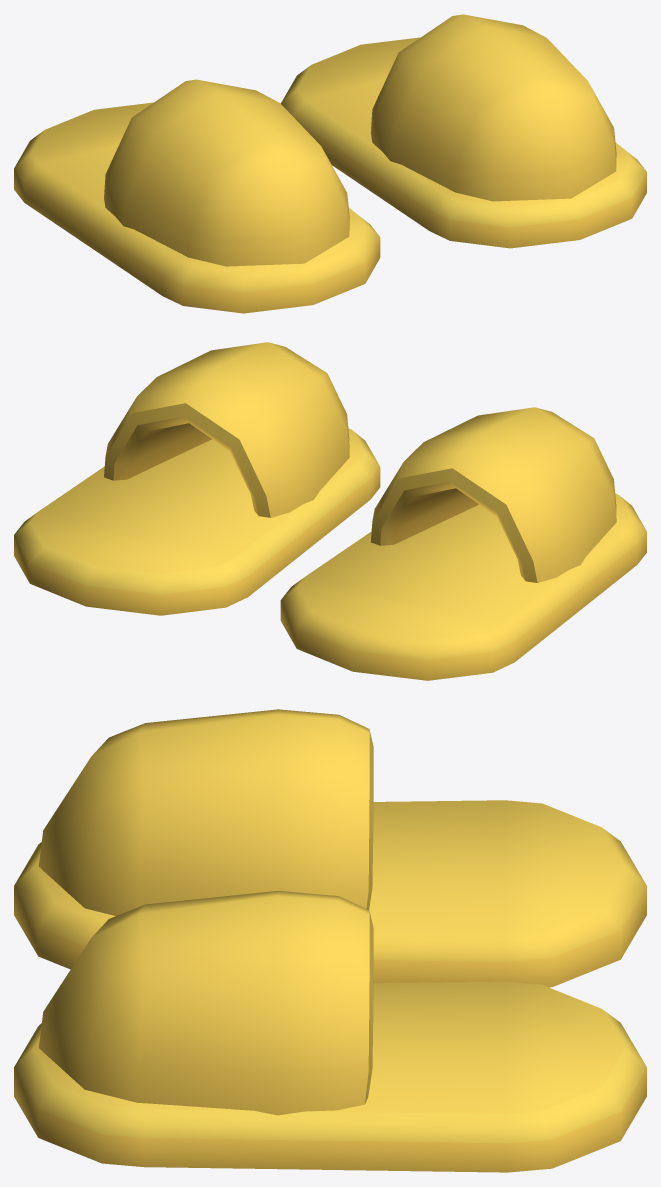
Rendered from slippers.fbx.
3 views of the same model, one above another, from view 1: azimuth 30°, elevation 25°; view 2: azimuth 150°, elevation 25°; view 3: azimuth 270°, elevation 25° (orthographic). The views are drawn at different scales.
Visible parts, largest first — view 1: slippers; view 2: slippers; view 3: slippers.
Part boxes in pixels (x1,y1,x2,y2): slippers: (14, 14, 646, 313); slippers: (14, 342, 646, 680); slippers: (14, 709, 646, 1172).
Bounding box in the file's own units: 0.7354 × 0.2058 × 0.5898.
